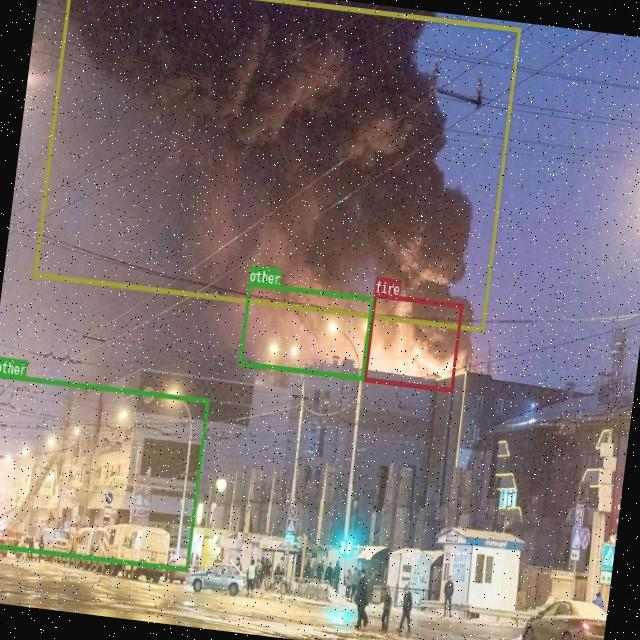fire: (362, 292, 462, 391)
smoke: (32, 0, 520, 331)
